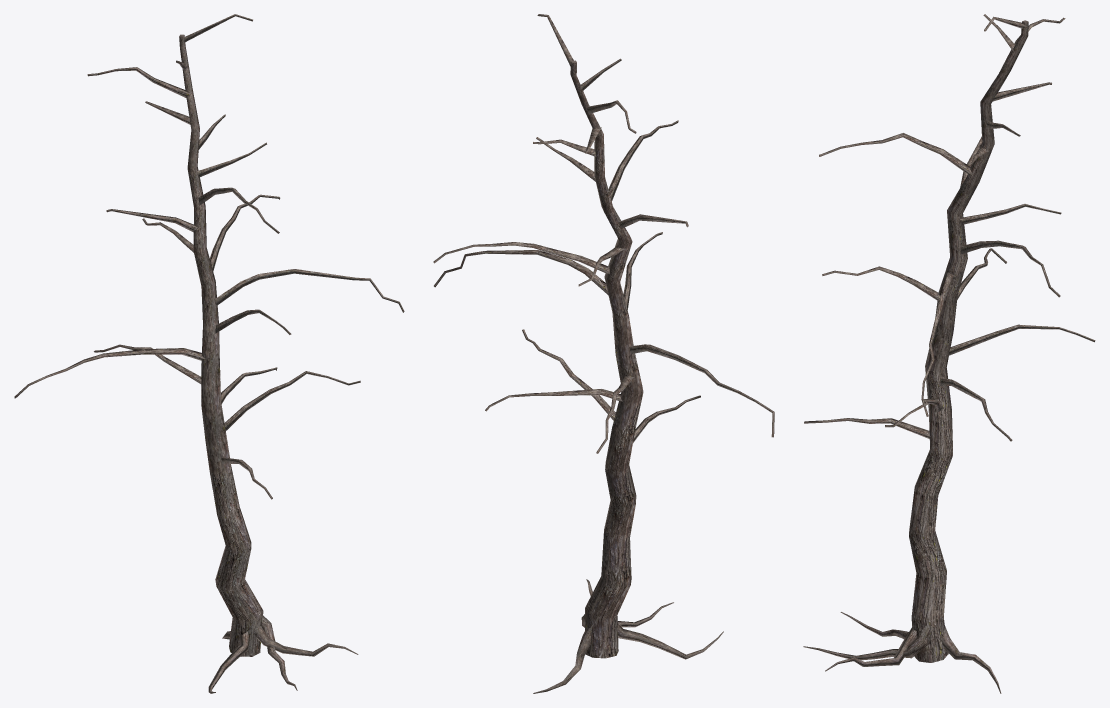
File: tree_1.FBX
3 views of the same model, side by side, from view 1: azimuth 30°, elevation 25°; view 2: azimuth 150°, elevation 25°; view 3: azimuth 270°, elevation 25° (orthographic). The views are drawn at different scales.
Visible parts, largest first — view 1: P3D_DeadTree1_LOD; view 2: P3D_DeadTree1_LOD; view 3: P3D_DeadTree1_LOD.
Part boxes in pixels (left/top/right/bottom): P3D_DeadTree1_LOD: left=14, top=14, right=404, bottom=693; P3D_DeadTree1_LOD: left=433, top=14, right=774, bottom=693; P3D_DeadTree1_LOD: left=803, top=14, right=1095, bottom=693.
Size of the model in its own units: 440 by 752 by 296.
Materials: 1 (1 with a texture image).
